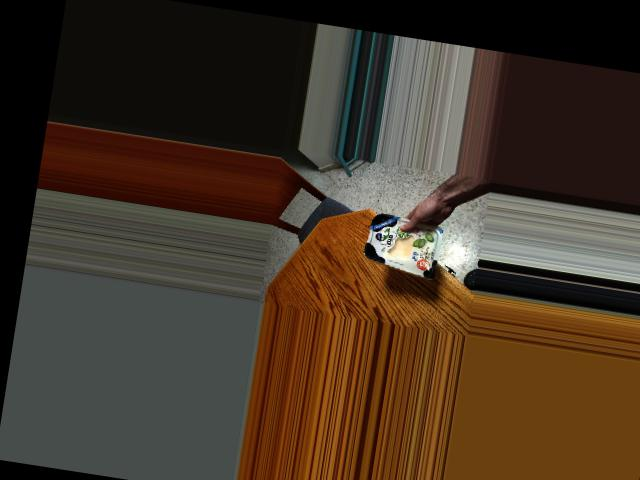cheese: (365, 212, 438, 274)
